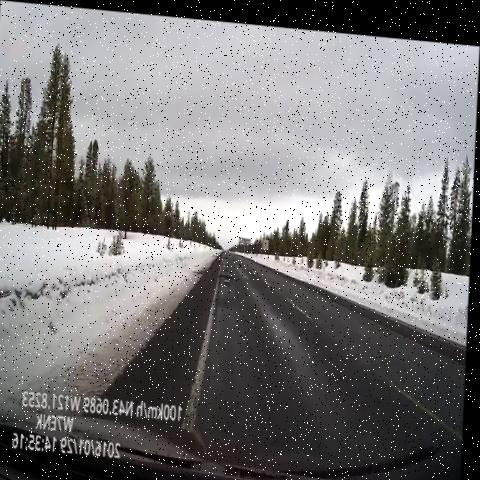pothole: (217, 266, 240, 285), (223, 247, 233, 266)
